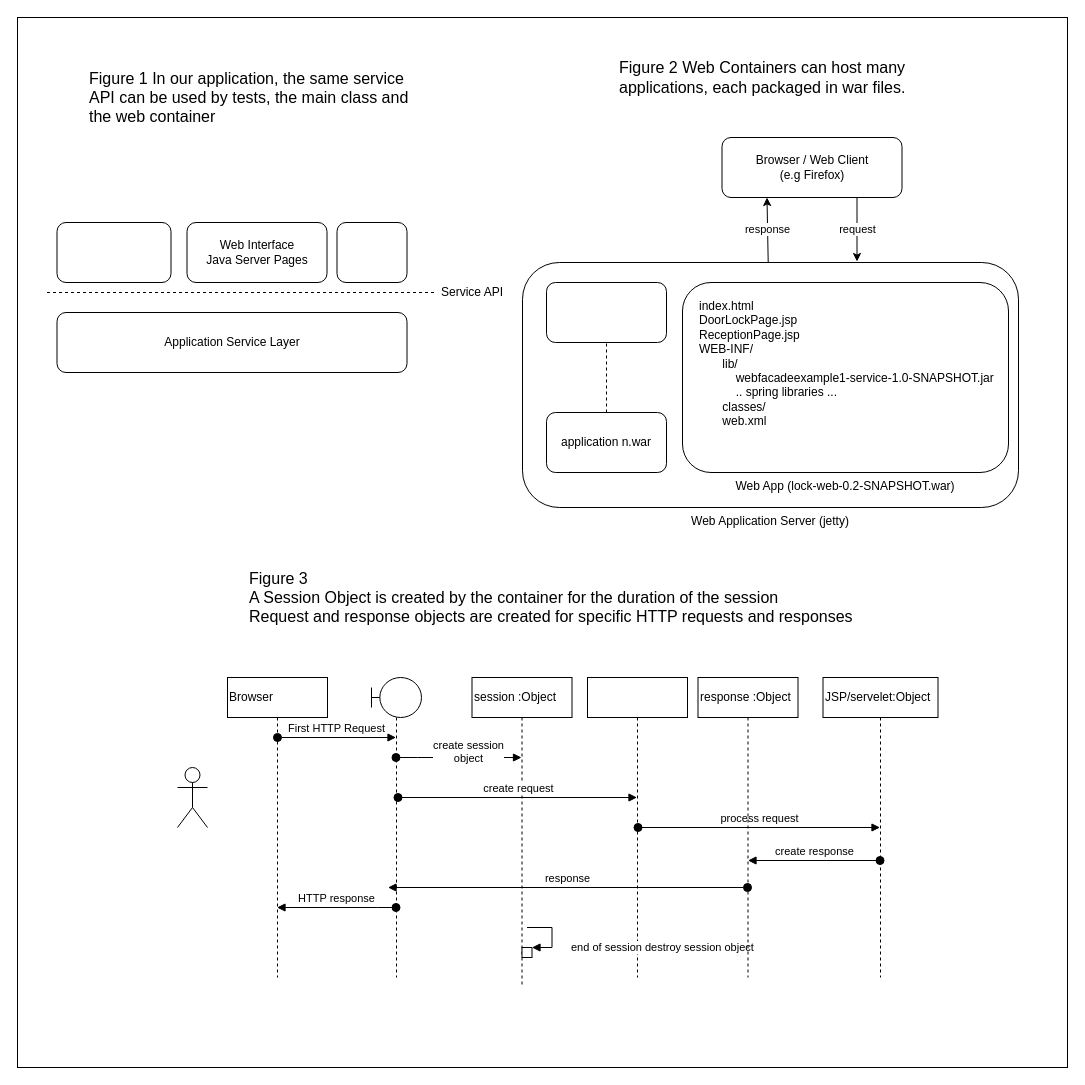
This 1085x1085 diagram has some shape labels left out. Each missing label, with the box of its shape:
Actor: (176, 766, 208, 828)
application1.war: (546, 282, 666, 342)
Command Line Interface UI: (56, 222, 171, 282)
request :Object: (586, 676, 688, 978)
Tests: (336, 222, 407, 282)
